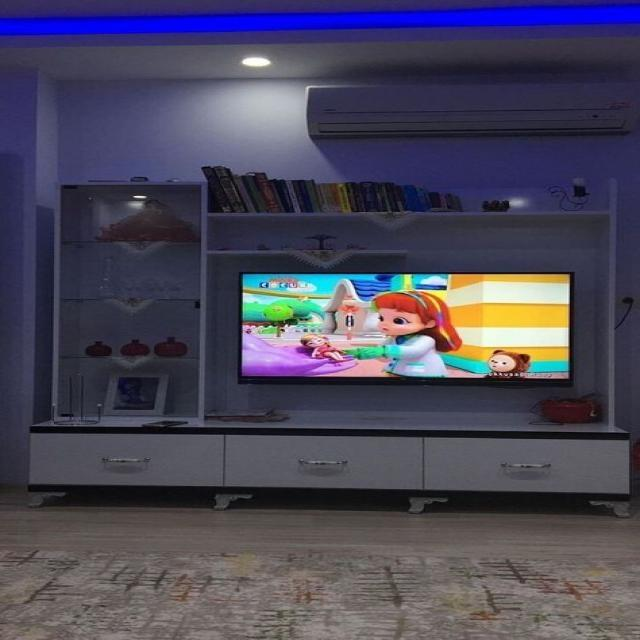AC: (303, 78, 636, 137)
AIO PC-Monitor-TV: (238, 266, 575, 386)
